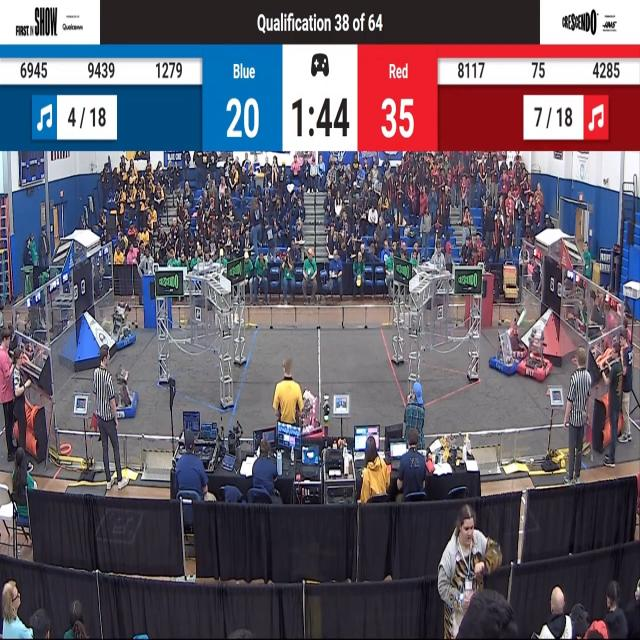Robot: (519, 313, 555, 385), (293, 383, 326, 442), (489, 317, 518, 379), (500, 302, 529, 363), (106, 365, 138, 420), (107, 298, 136, 352)
